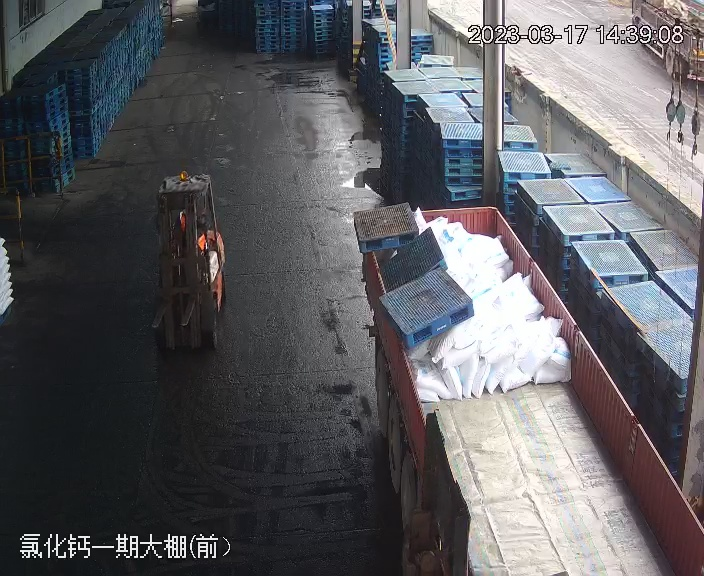truck: (345, 198, 698, 576)
